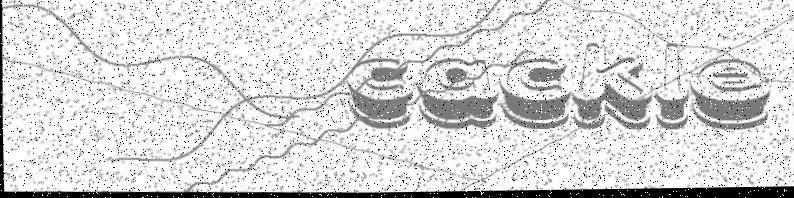a: (415, 58, 498, 131)
c: (498, 58, 572, 133), (344, 56, 415, 130)
e: (688, 60, 771, 133)
k: (570, 40, 653, 132)
l: (653, 41, 690, 133)
